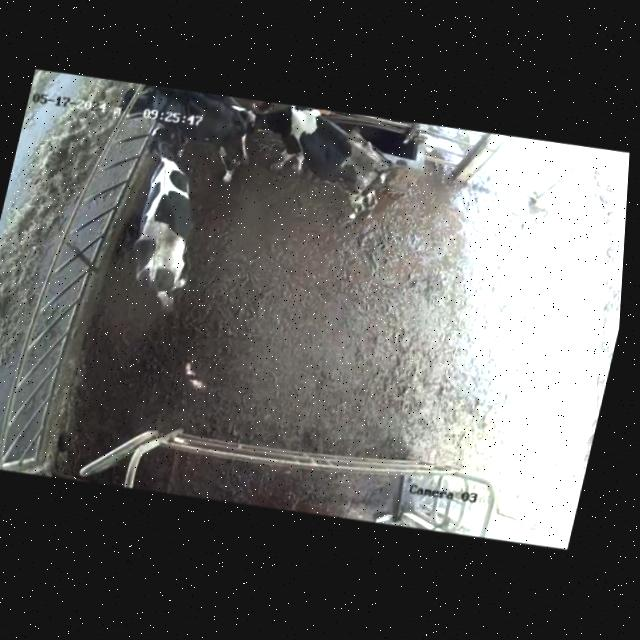eat: (70, 72, 190, 140)
stand: (103, 122, 233, 325), (225, 94, 417, 228)
